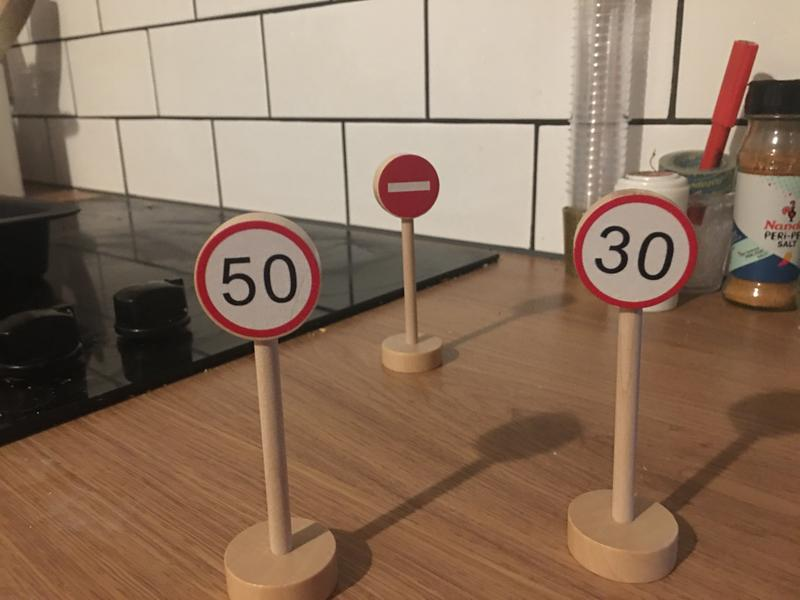Traffic_Sign_30: (574, 195, 695, 309)
Traffic_Sign_50: (195, 221, 320, 340)
Traffic_Sign_No_Entry: (377, 156, 439, 219)
